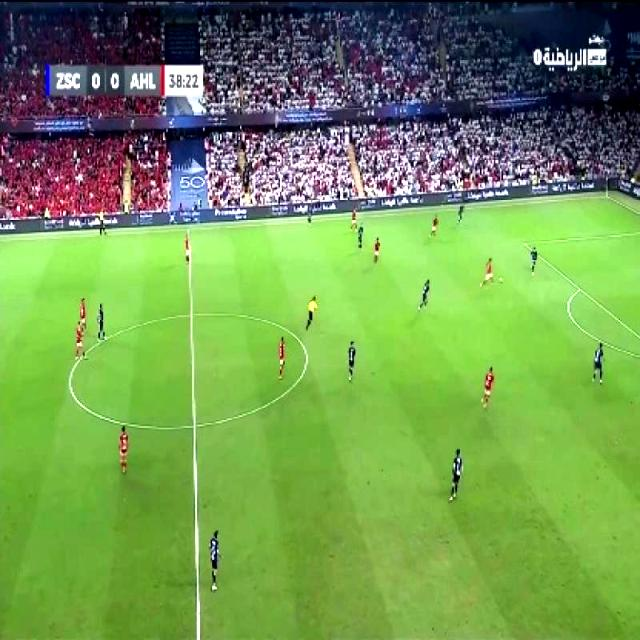bigarea_top_inner: (516, 235, 530, 250)
corner: (598, 188, 612, 202)
halfcircle_bottom: (183, 411, 203, 437)
halfcircle_top: (180, 302, 202, 326)
midline_top_intersection: (184, 224, 194, 236)
top_arc_area_intersection: (572, 280, 584, 294)
